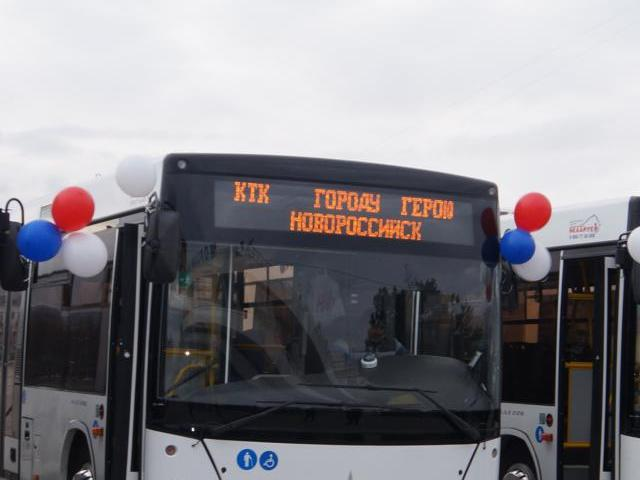bus: (0, 143, 511, 480), (510, 180, 640, 480)
